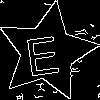E: (22, 27, 62, 77)
